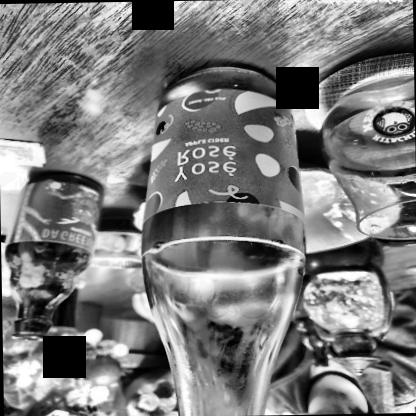yoserose: (141, 89, 302, 218)
